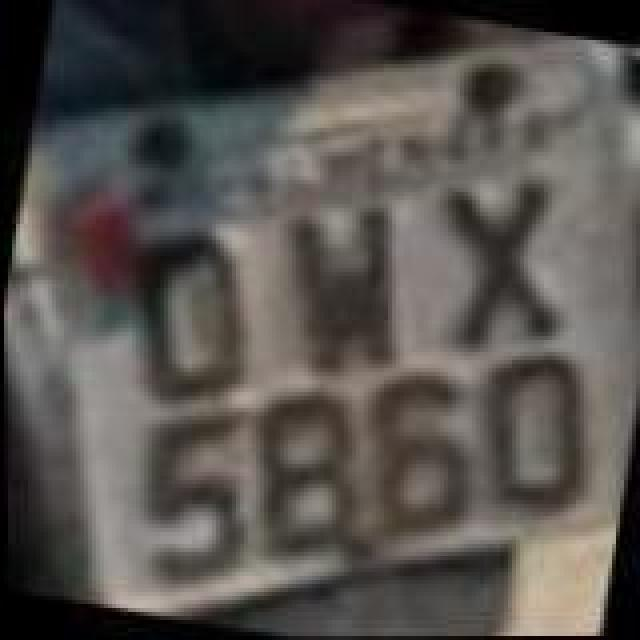5: (110, 388, 278, 596)
6: (348, 352, 492, 544)
8: (228, 374, 380, 566)
O: (108, 214, 276, 418), (462, 342, 610, 522)
W: (262, 192, 426, 396)
X: (412, 156, 592, 360)
